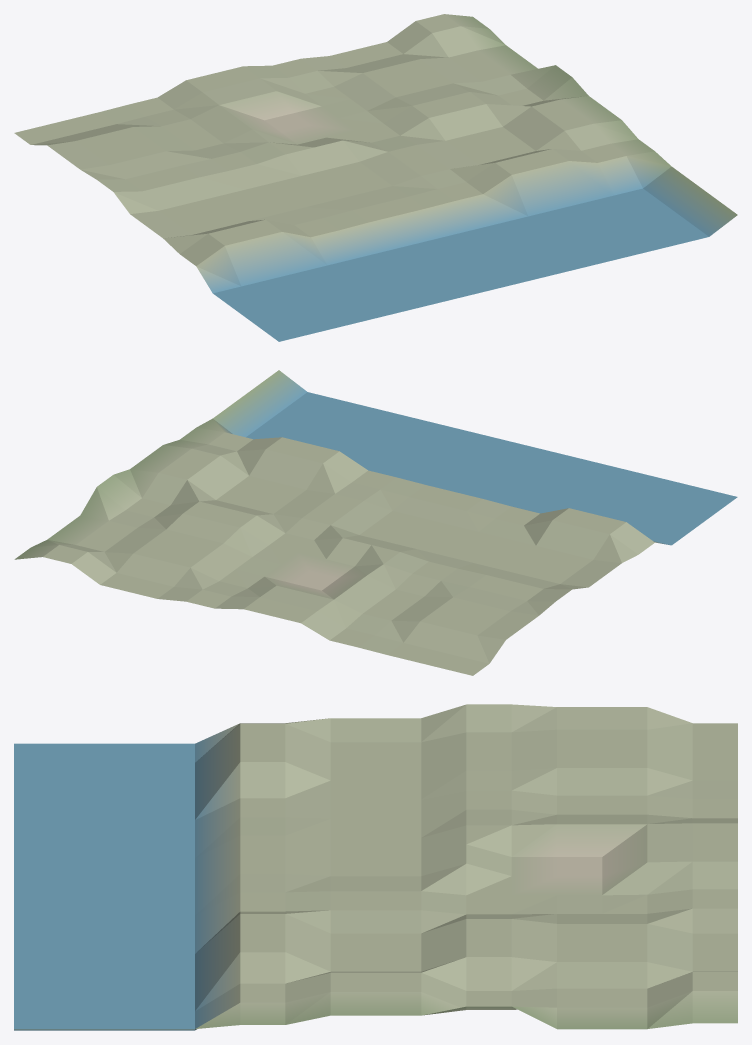
3 renders of one model, top to bottom at view 1: azimuth 30°, elevation 25°; view 2: azimuth 150°, elevation 25°; view 3: azimuth 270°, elevation 25°, orthographic. The views are drawn at different scales.
Size of the model in its own units: 32 by 2.1 by 32.
